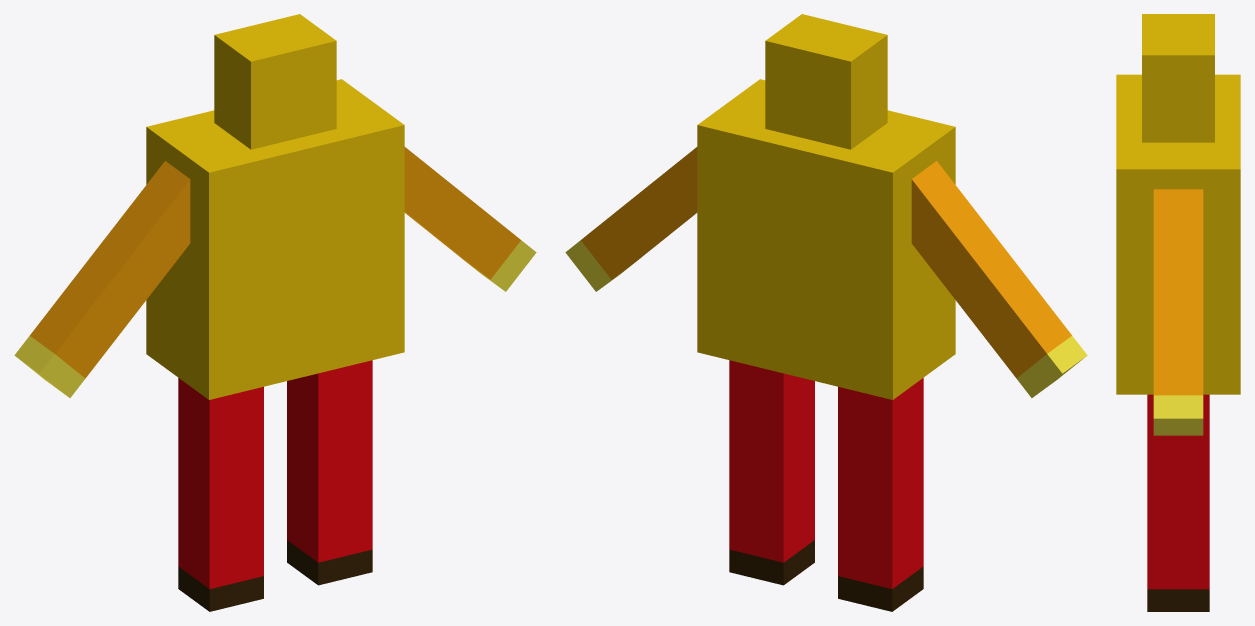
File: Człowieczek.fbx
The picture shows the model from 3 angles, left to right: view 1: azimuth 30°, elevation 25°; view 2: azimuth 150°, elevation 25°; view 3: azimuth 270°, elevation 25°; orthographic projection.
Visible parts, largest first — view 1: Cube.002, Cube, Cube.001, Cube.003, Cube.004; view 2: Cube.002, Cube, Cube.001, Cube.003, Cube.004; view 3: Cube.002, Cube.004, Cube.001.
Part boxes in pixels (<box>): Cube.002: <box>146,14,404,399</box>; Cube: <box>178,378,263,611</box>; Cube.001: <box>287,360,372,585</box>; Cube.003: <box>14,161,190,397</box>; Cube.004: <box>404,147,536,291</box>; Cube.002: <box>697,14,955,399</box>; Cube: <box>838,378,923,611</box>; Cube.001: <box>729,360,814,585</box>; Cube.003: <box>911,161,1087,397</box>; Cube.004: <box>565,147,697,291</box>; Cube.002: <box>1116,14,1240,394</box>; Cube.004: <box>1153,189,1203,435</box>; Cube.001: <box>1147,394,1209,611</box>.
Bounding box in the file's own units: 458 × 477 × 100.
